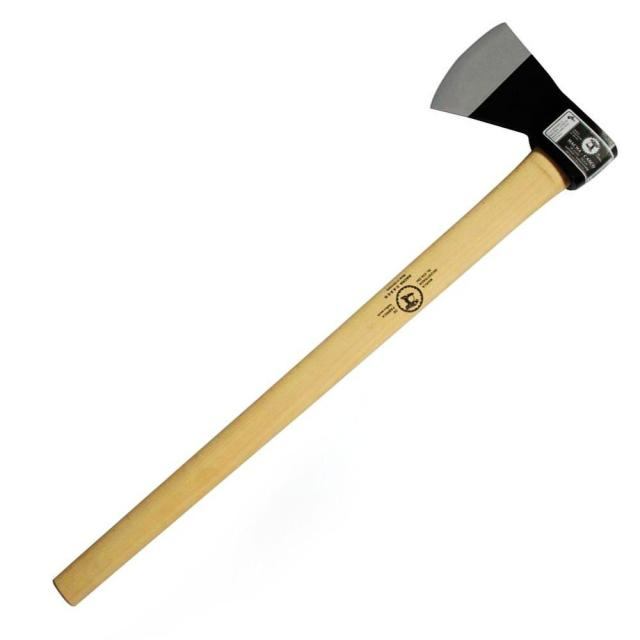Kapak: (35, 19, 613, 597)
